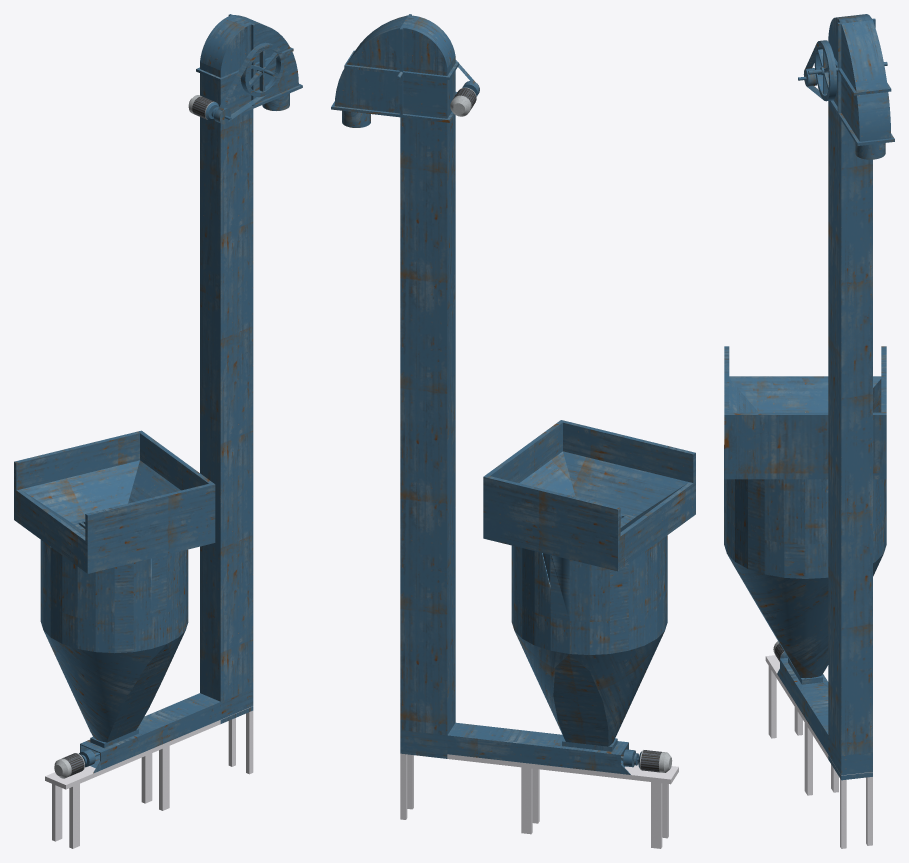
The picture shows the model from 3 angles, left to right: view 1: azimuth 30°, elevation 25°; view 2: azimuth 150°, elevation 25°; view 3: azimuth 270°, elevation 25°; orthographic projection. The views are drawn at different scales.
Parts seen in each view (by area): view 1: root.001, root.004, root, root.003; view 2: root.001, root.004, root; view 3: root.001, root.004, root.
Part boxes in pixels (box(x1,y1,x2,y2)): root.001: box(14, 14, 302, 773); root.004: box(40, 540, 188, 653); root: box(45, 706, 253, 848); root.003: box(62, 96, 214, 776); root.001: box(331, 14, 695, 774); root.004: box(511, 535, 667, 654); root: box(400, 753, 678, 848); root.001: box(724, 14, 894, 780); root.004: box(724, 445, 886, 578); root: box(765, 655, 872, 848).
Size of the model in its own units: 3.58 by 8.98 by 1.68.
Materials: 4 (4 with a texture image).
